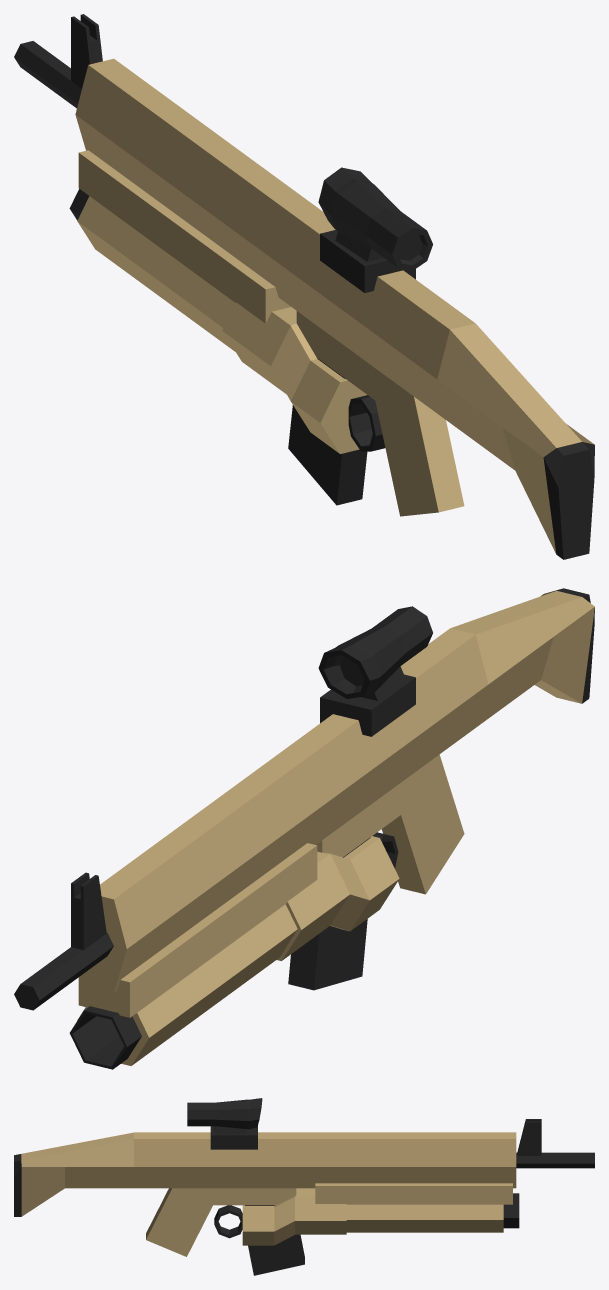
File: RifleScope_3.fbx
3 views of the same model, one above another, from view 1: azimuth 30°, elevation 25°; view 2: azimuth 150°, elevation 25°; view 3: azimuth 270°, elevation 25° (orthographic). The views are drawn at different scales.
Parts seen in each view (by area): view 1: SCAR-L, FN40GL, ACOG, FN40GL(barrel), SCAR-L(magazine); view 2: SCAR-L, FN40GL, FN40GL(barrel), ACOG, SCAR-L(magazine); view 3: SCAR-L, FN40GL, FN40GL(barrel), ACOG, SCAR-L(magazine).
Boxes of the visible parts, x1,y1,x2,y2 form: SCAR-L: [14, 14, 594, 559]; FN40GL: [78, 150, 385, 453]; ACOG: [318, 167, 432, 292]; FN40GL(barrel): [69, 188, 235, 351]; SCAR-L(magazine): [288, 358, 367, 505]; SCAR-L: [14, 588, 594, 1010]; FN40GL: [78, 832, 399, 1017]; FN40GL(barrel): [69, 904, 297, 1069]; ACOG: [318, 606, 432, 736]; SCAR-L(magazine): [288, 837, 370, 990]; SCAR-L: [14, 1119, 594, 1256]; FN40GL: [214, 1183, 512, 1245]; FN40GL(barrel): [346, 1193, 519, 1232]; ACOG: [187, 1098, 262, 1149]; SCAR-L(magazine): [245, 1205, 304, 1275].
Size of the model in its own units: 77 by 306 by 925.
